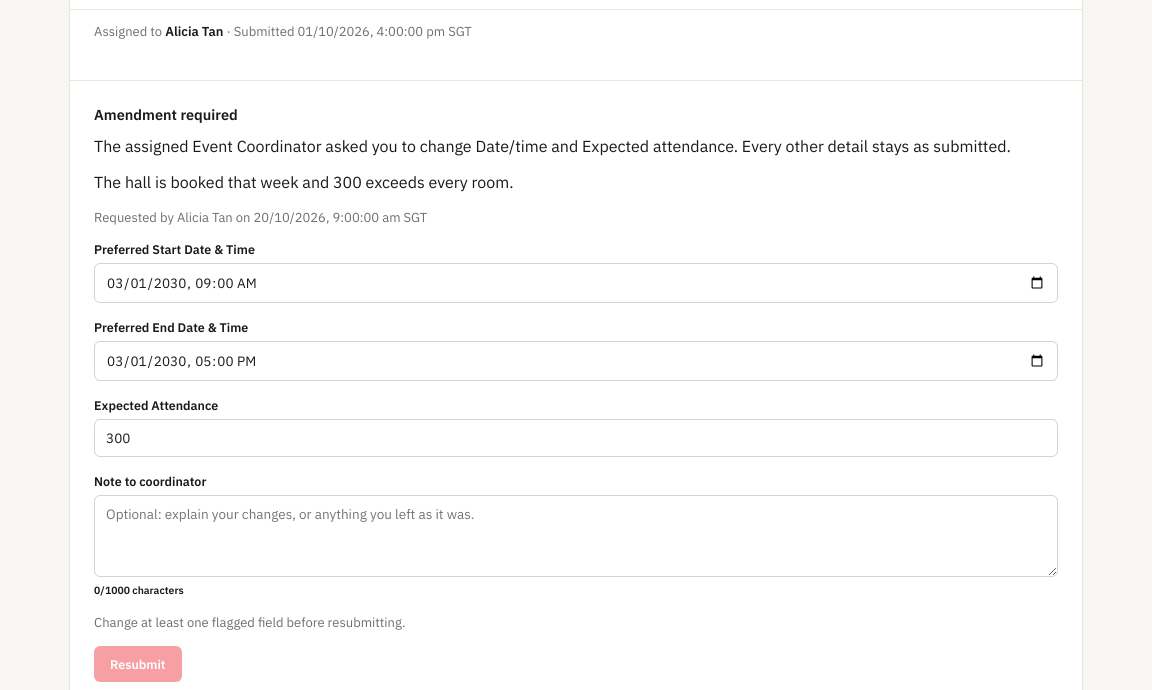
Test case: AC3: the server's validation errors are shown inline
(page scrolled)
Replace the text in the field labelled "Preferred End Date & Time" with "2030-03-01T08:00" at {"x": 576, "y": 361}, box [94, 341, 1058, 381]
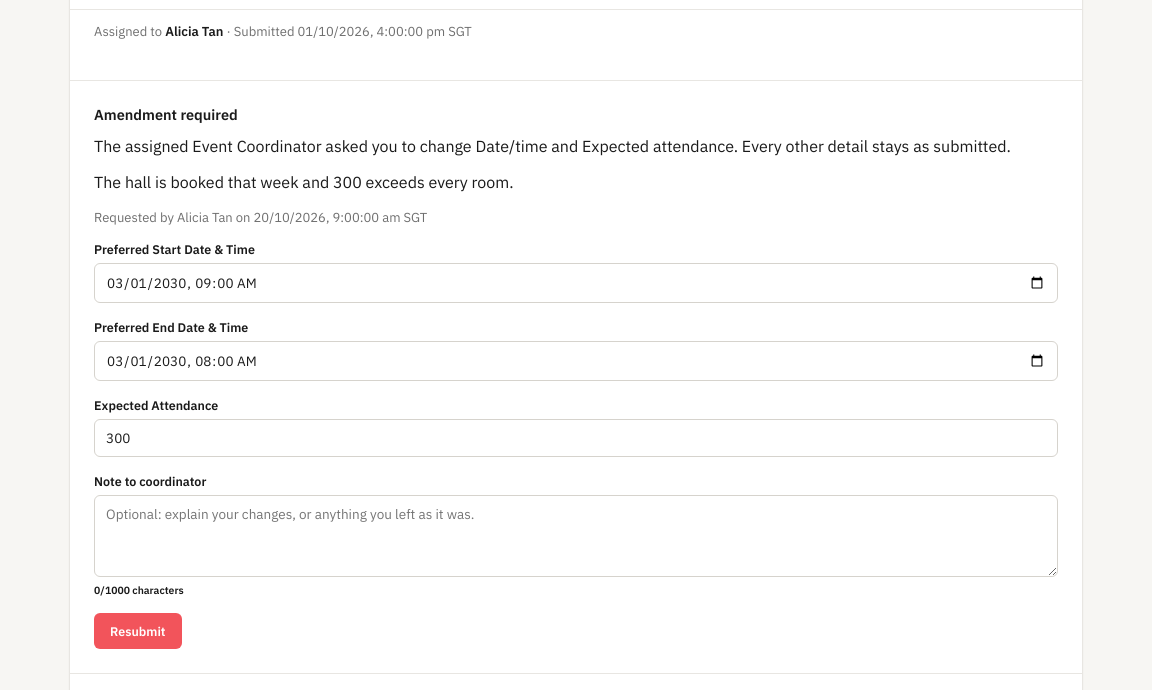
Click the button "Resubmit" at {"x": 138, "y": 631}, box [94, 613, 182, 649]
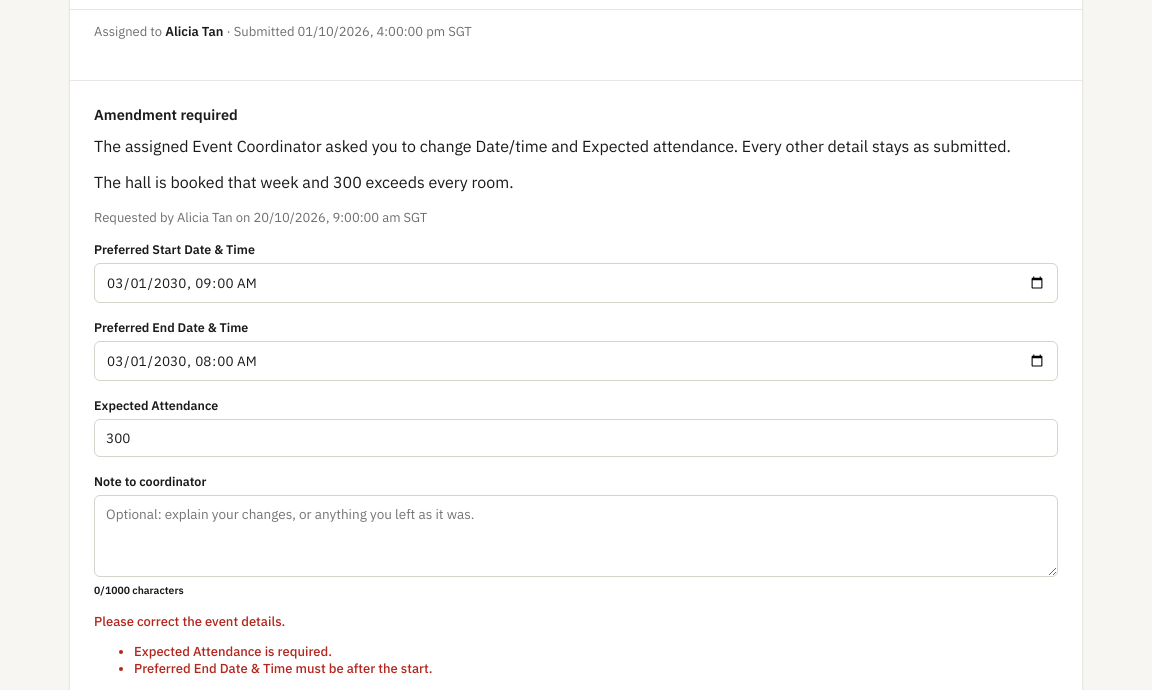
Expected: the message shows "Please correct the event details.", [94, 613, 285, 630]
Expected: the message shows "Expected Attendance is required.", [134, 643, 332, 660]
Expected: the message shows "Preferred End Date & Time must be after the start.", [134, 660, 432, 677]
Replace the text in the field labelled "Preferred End Date & Time" with "2030-03-01T16:00" at {"x": 576, "y": 361}, box [94, 341, 1058, 381]
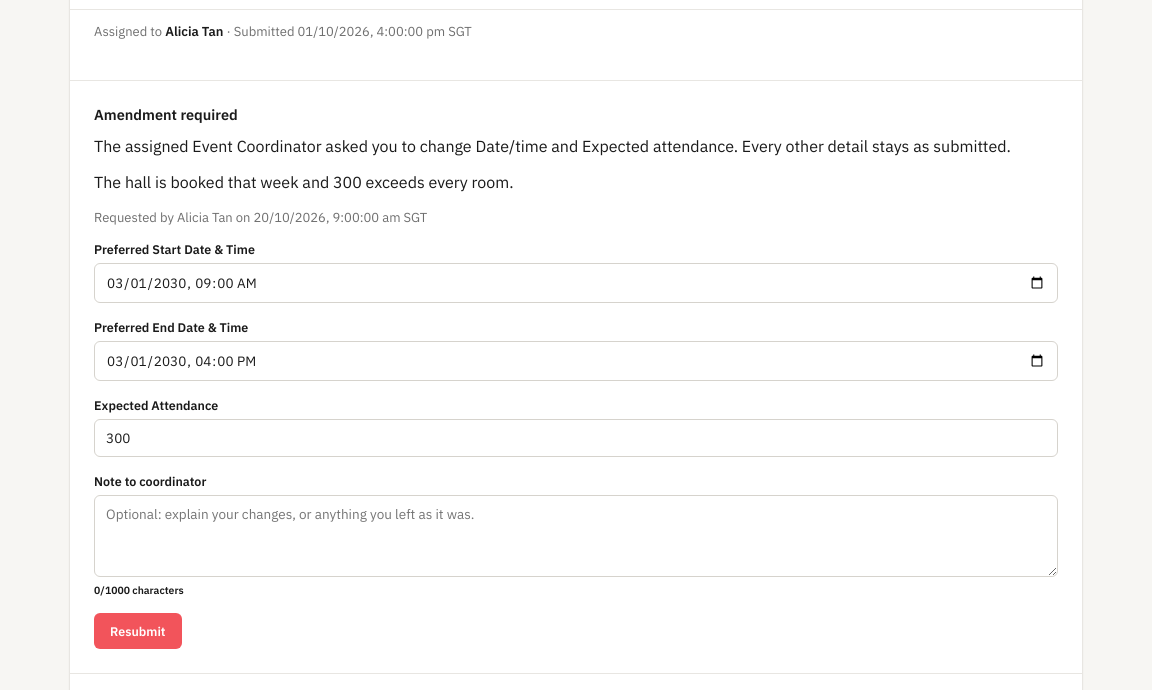
Expected: the message is gone
